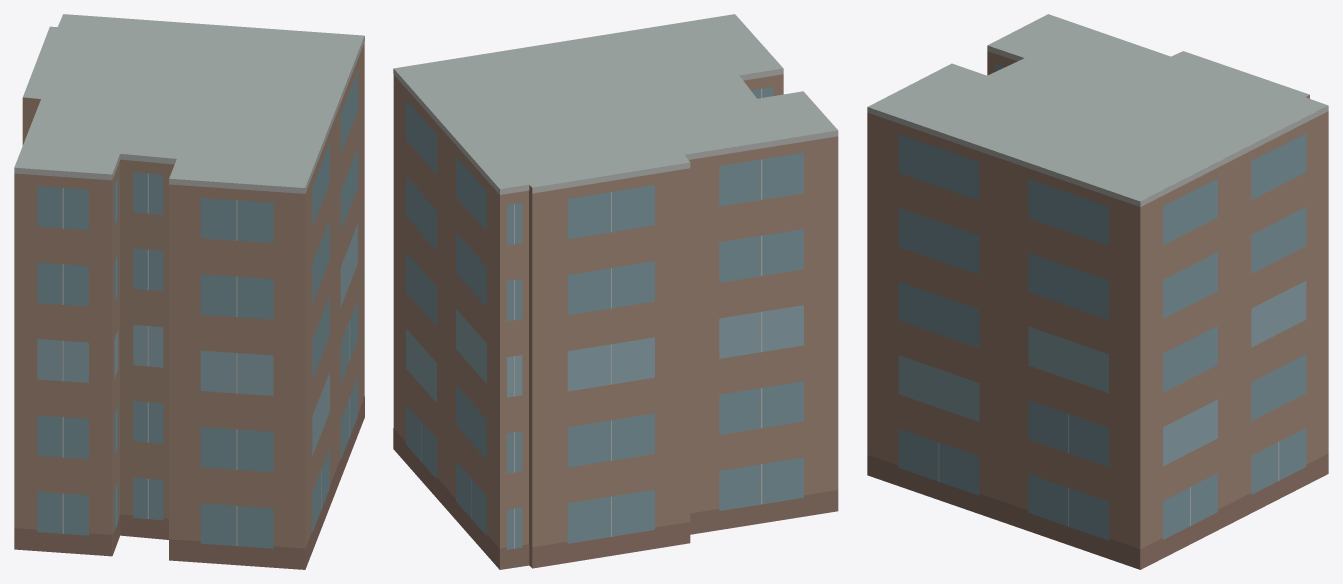
The model's file is survey-upis-32907122.glb.
3 renders of one model, left to right at view 1: azimuth 30°, elevation 25°; view 2: azimuth 150°, elevation 25°; view 3: azimuth 270°, elevation 25°, orthographic. The views are drawn at different scales.
Visible parts, largest first — view 1: survey-upis-32907122.tmp; view 2: survey-upis-32907122.tmp; view 3: survey-upis-32907122.tmp.
Boxes of the visible parts, <box> form: survey-upis-32907122.tmp: <box>14,14,364,569</box>; survey-upis-32907122.tmp: <box>393,14,838,569</box>; survey-upis-32907122.tmp: <box>867,14,1328,569</box>.
Bounding box in the file's own units: 17.58 × 16.09 × 18.26.
